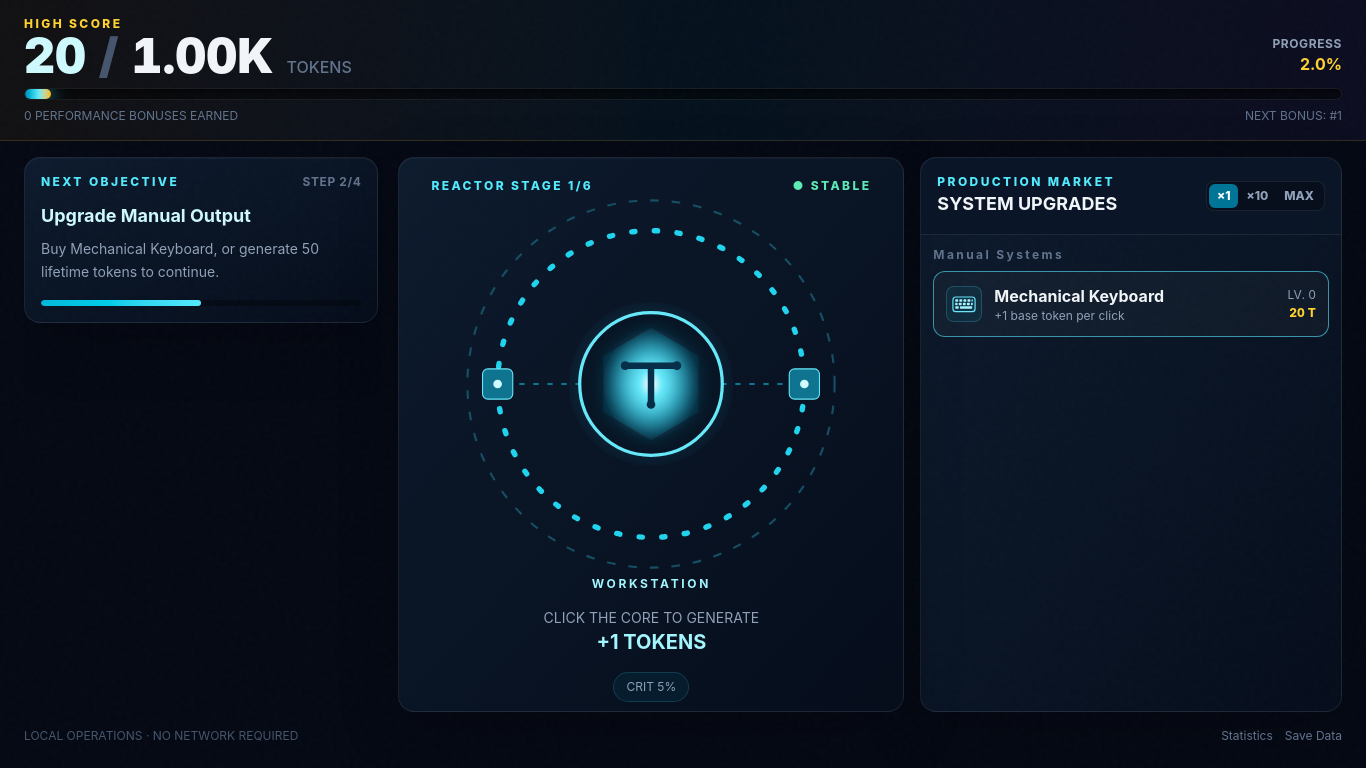
it: Tokenmaxxer dashboard › reveals production systems and guidance through early progression
Click the button "Mechanical Keyboard +1 base token per click LV. 0 20 T".
click(1131, 304)  # box [933,271,1329,337]
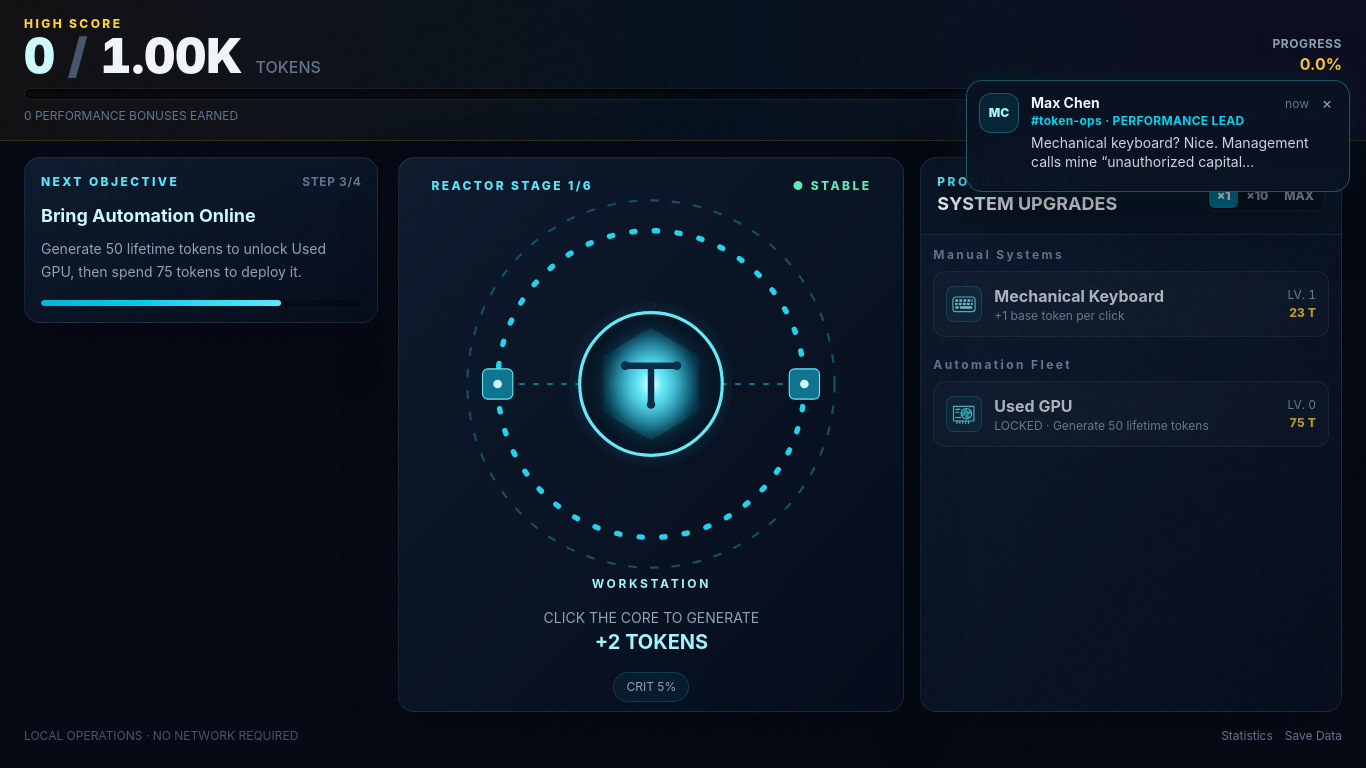
Now the heading "Bring Automation Online" is shown, box [41,205,256,226]
Now the text "Generate 50 lifetime tokens to unlock Used GPU, then spend 75 tokens to deploy it." is shown, box [41,240,326,280]
Now the heading "Automation Fleet" is shown, box [933,357,1072,372]
